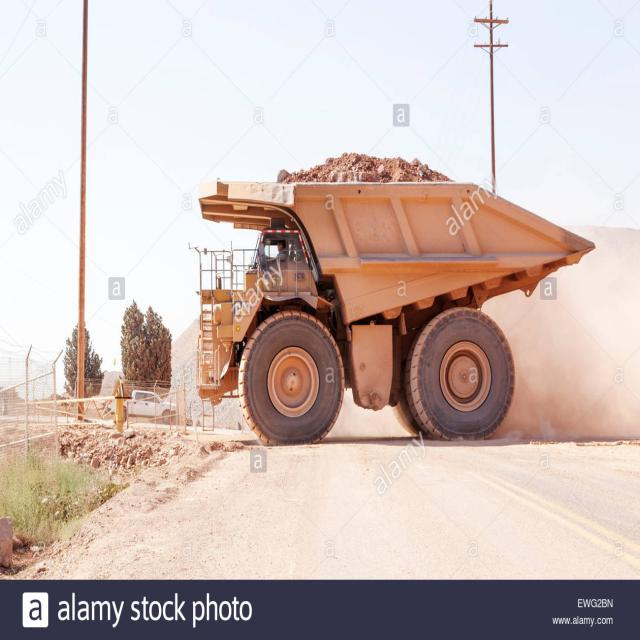dump_truck: (184, 148, 606, 465)
